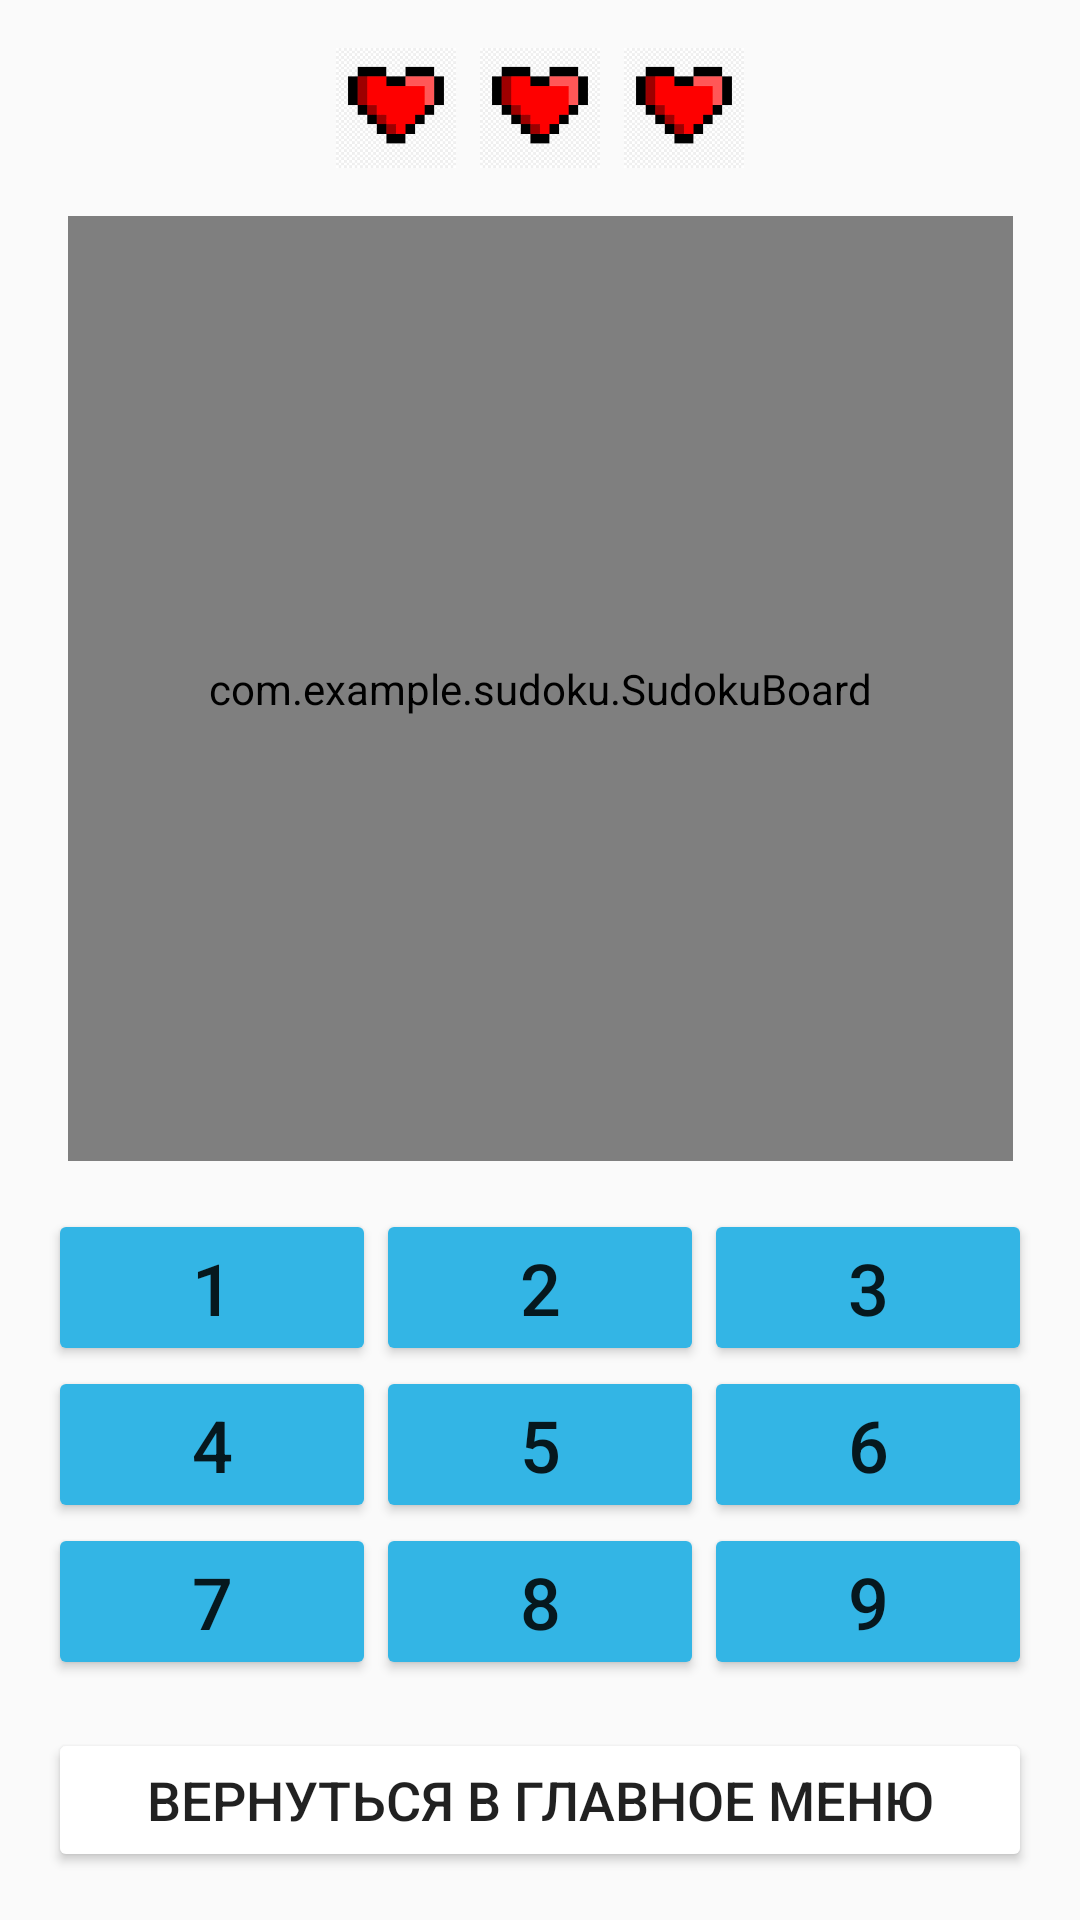

Icon bounding boxes for this 1080x1920 phone screenshot, format (x1, y1, x2, y2):
Heart 1: (348, 66, 444, 144)
Heart 2: (492, 66, 588, 144)
Heart 3: (636, 66, 732, 144)
